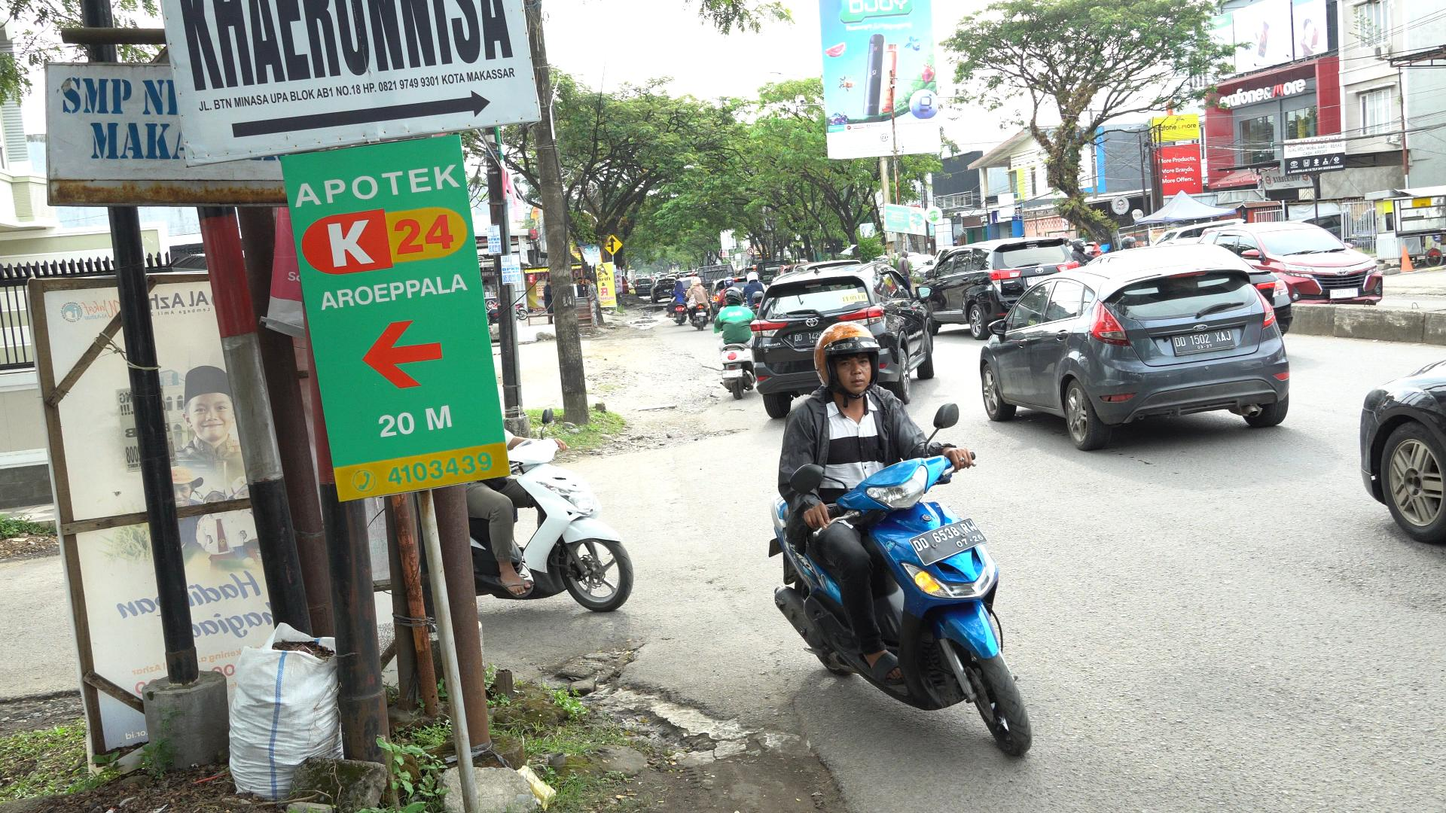number-plate: (912, 513, 990, 568)
